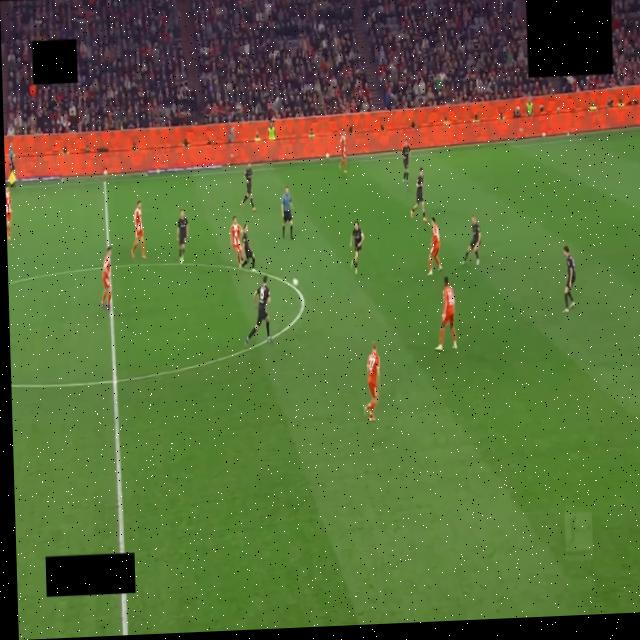ball: (293, 278, 298, 286)
player: (245, 277, 270, 344), (436, 277, 457, 351), (365, 342, 380, 421), (462, 216, 481, 265), (132, 201, 146, 258), (411, 168, 426, 221), (563, 246, 575, 312), (429, 217, 442, 275), (351, 221, 364, 274), (242, 163, 256, 212), (230, 217, 243, 267), (101, 246, 111, 309), (242, 223, 255, 271), (177, 209, 188, 263), (402, 139, 410, 185), (339, 129, 347, 173), (5, 185, 11, 240)
referee: (281, 187, 293, 239)
